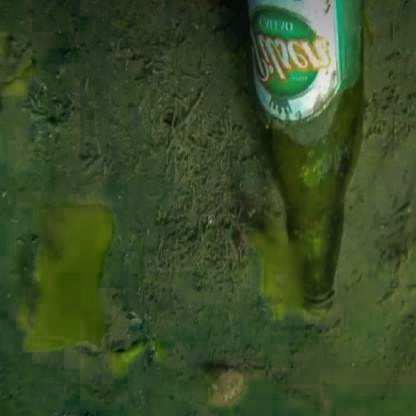pbottle: (244, 2, 392, 323)
